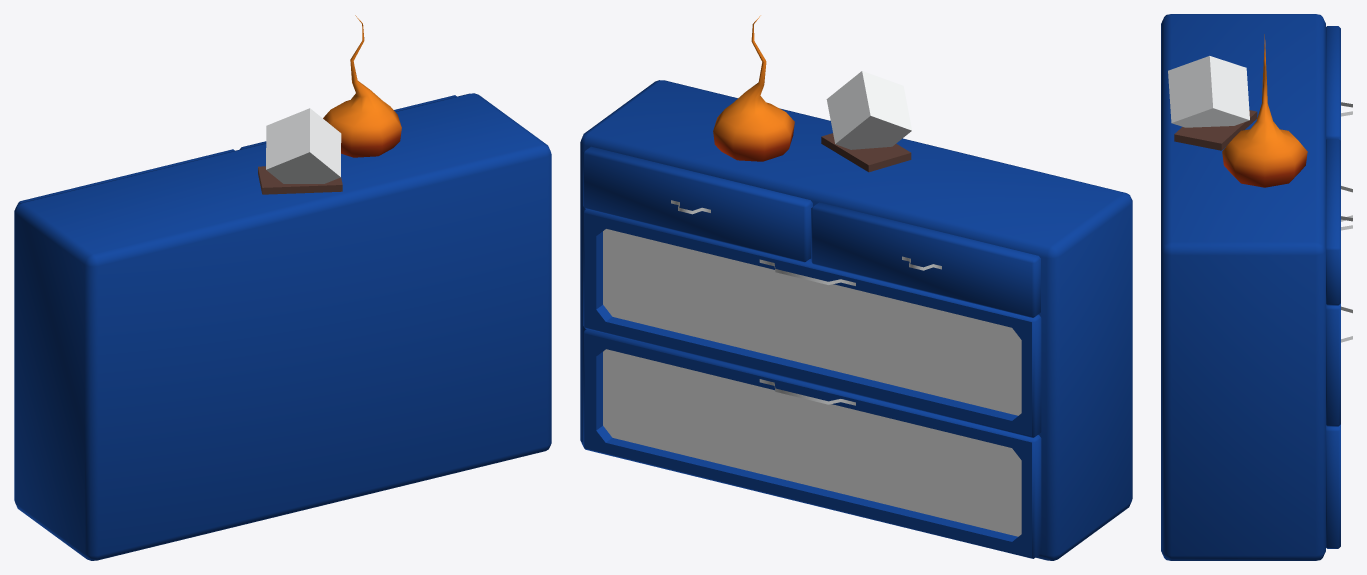
The model's file is M_ruhugui04.FBX.
The picture shows the model from 3 angles, left to right: view 1: azimuth 30°, elevation 25°; view 2: azimuth 150°, elevation 25°; view 3: azimuth 270°, elevation 25°; orthographic projection. The views are drawn at different scales.
Parts seen in each view (by area): view 1: M_ruhugui04_01, M_ruhugui04_05, M_ruhugui04_04, M_ruhugui04_06; view 2: M_ruhugui04_01, M_ruhugui04_02, M_ruhugui04_05, M_ruhugui04_04, M_ruhugui04_06; view 3: M_ruhugui04_01, M_ruhugui04_05, M_ruhugui04_04, M_ruhugui04_06.
Boxes of the visible parts, box(x1,y1,x2,y2) form: M_ruhugui04_01: box(14, 93, 551, 560); M_ruhugui04_05: box(266, 108, 341, 183); M_ruhugui04_04: box(323, 15, 401, 157); M_ruhugui04_06: box(258, 166, 342, 194); M_ruhugui04_01: box(580, 80, 1132, 560); M_ruhugui04_02: box(603, 229, 1021, 536); M_ruhugui04_05: box(671, 71, 941, 405); M_ruhugui04_04: box(713, 15, 794, 161); M_ruhugui04_06: box(821, 133, 911, 172); M_ruhugui04_01: box(1161, 14, 1340, 560); M_ruhugui04_05: box(1168, 56, 1352, 342); M_ruhugui04_04: box(1222, 34, 1307, 187); M_ruhugui04_06: box(1174, 110, 1257, 150).
Bounding box in the file's own units: 2.03 × 1.83 × 0.6957.
